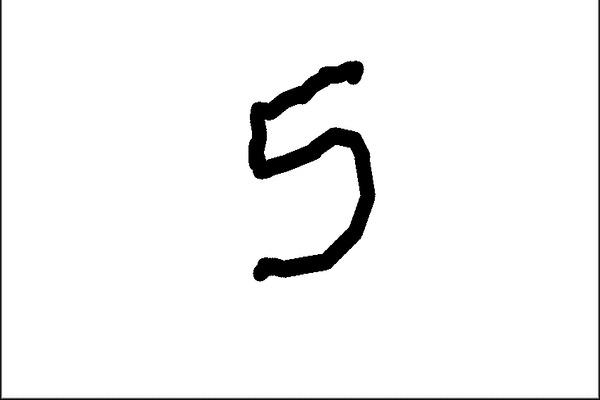S: (224, 51, 381, 285)
